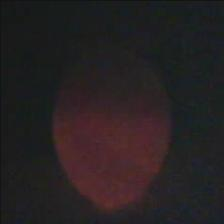fertile: (51, 47, 170, 208)
